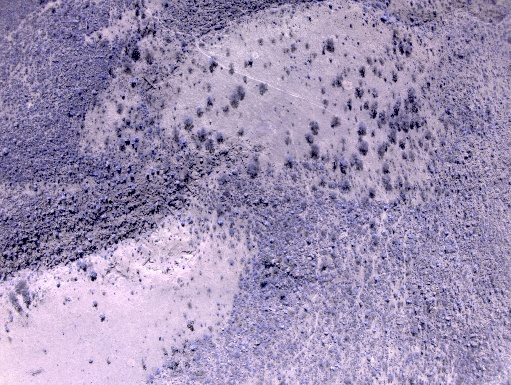agave: (176, 137, 187, 148), (124, 117, 132, 128), (97, 73, 107, 81), (148, 169, 157, 177), (129, 77, 136, 87), (76, 89, 83, 98), (267, 238, 275, 245), (116, 166, 122, 175), (82, 188, 90, 193), (306, 238, 310, 247), (129, 174, 133, 180)
